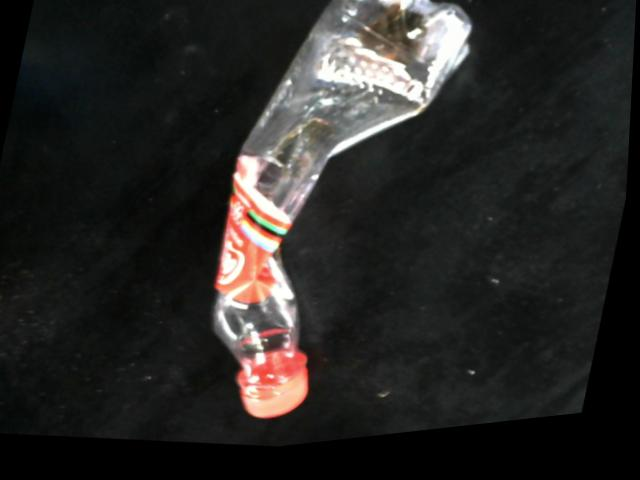bottle: (211, 0, 475, 428)
